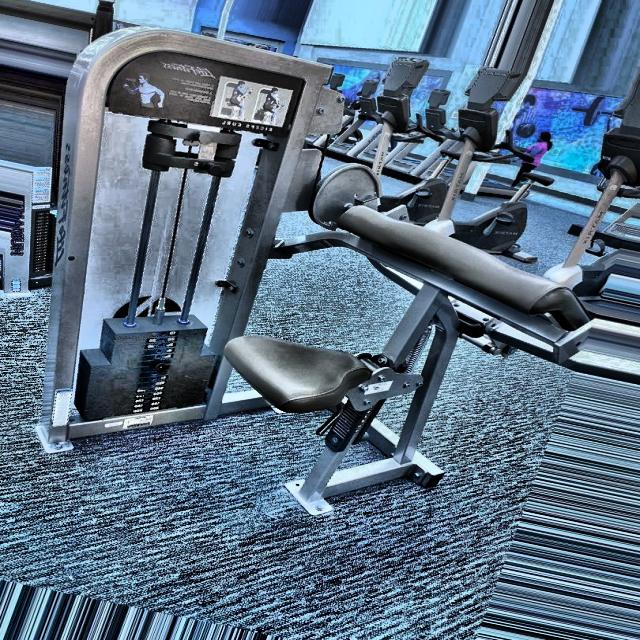bicep_curl_machine: (292, 150, 637, 403), (112, 44, 300, 143)
